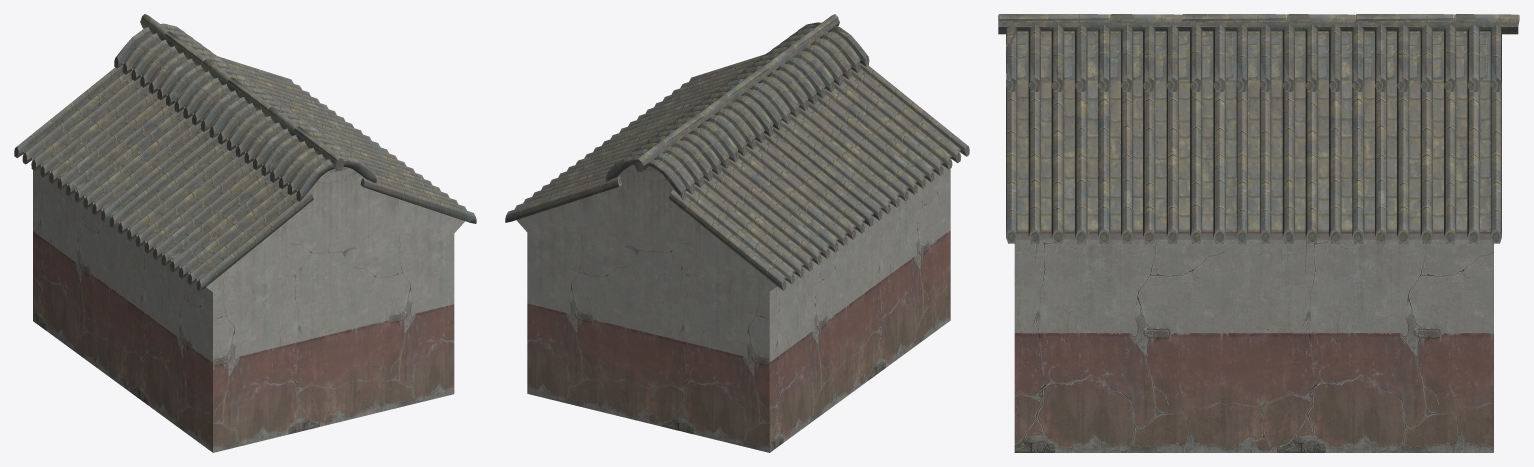
The model's file is bg_anh_delphiinn_bh06_sm_cwk.FBX.
3 renders of one model, left to right at view 1: azimuth 30°, elevation 25°; view 2: azimuth 150°, elevation 25°; view 3: azimuth 270°, elevation 25°, orthographic. The views are drawn at different scales.
Parts seen in each view (by area): view 1: bg_anh_delphiinn_bh06_sm_cwk; view 2: bg_anh_delphiinn_bh06_sm_cwk; view 3: bg_anh_delphiinn_bh06_sm_cwk.
Boxes of the visible parts, box(x1,y1,x2,y2) form: bg_anh_delphiinn_bh06_sm_cwk: box(14, 14, 476, 452); bg_anh_delphiinn_bh06_sm_cwk: box(505, 14, 969, 452); bg_anh_delphiinn_bh06_sm_cwk: box(998, 14, 1519, 452).
Size of the model in its own units: 472 by 442 by 579.
